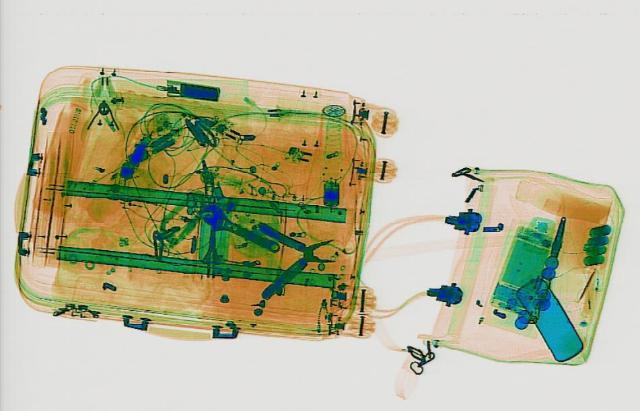Wrench: (185, 200, 291, 255)
